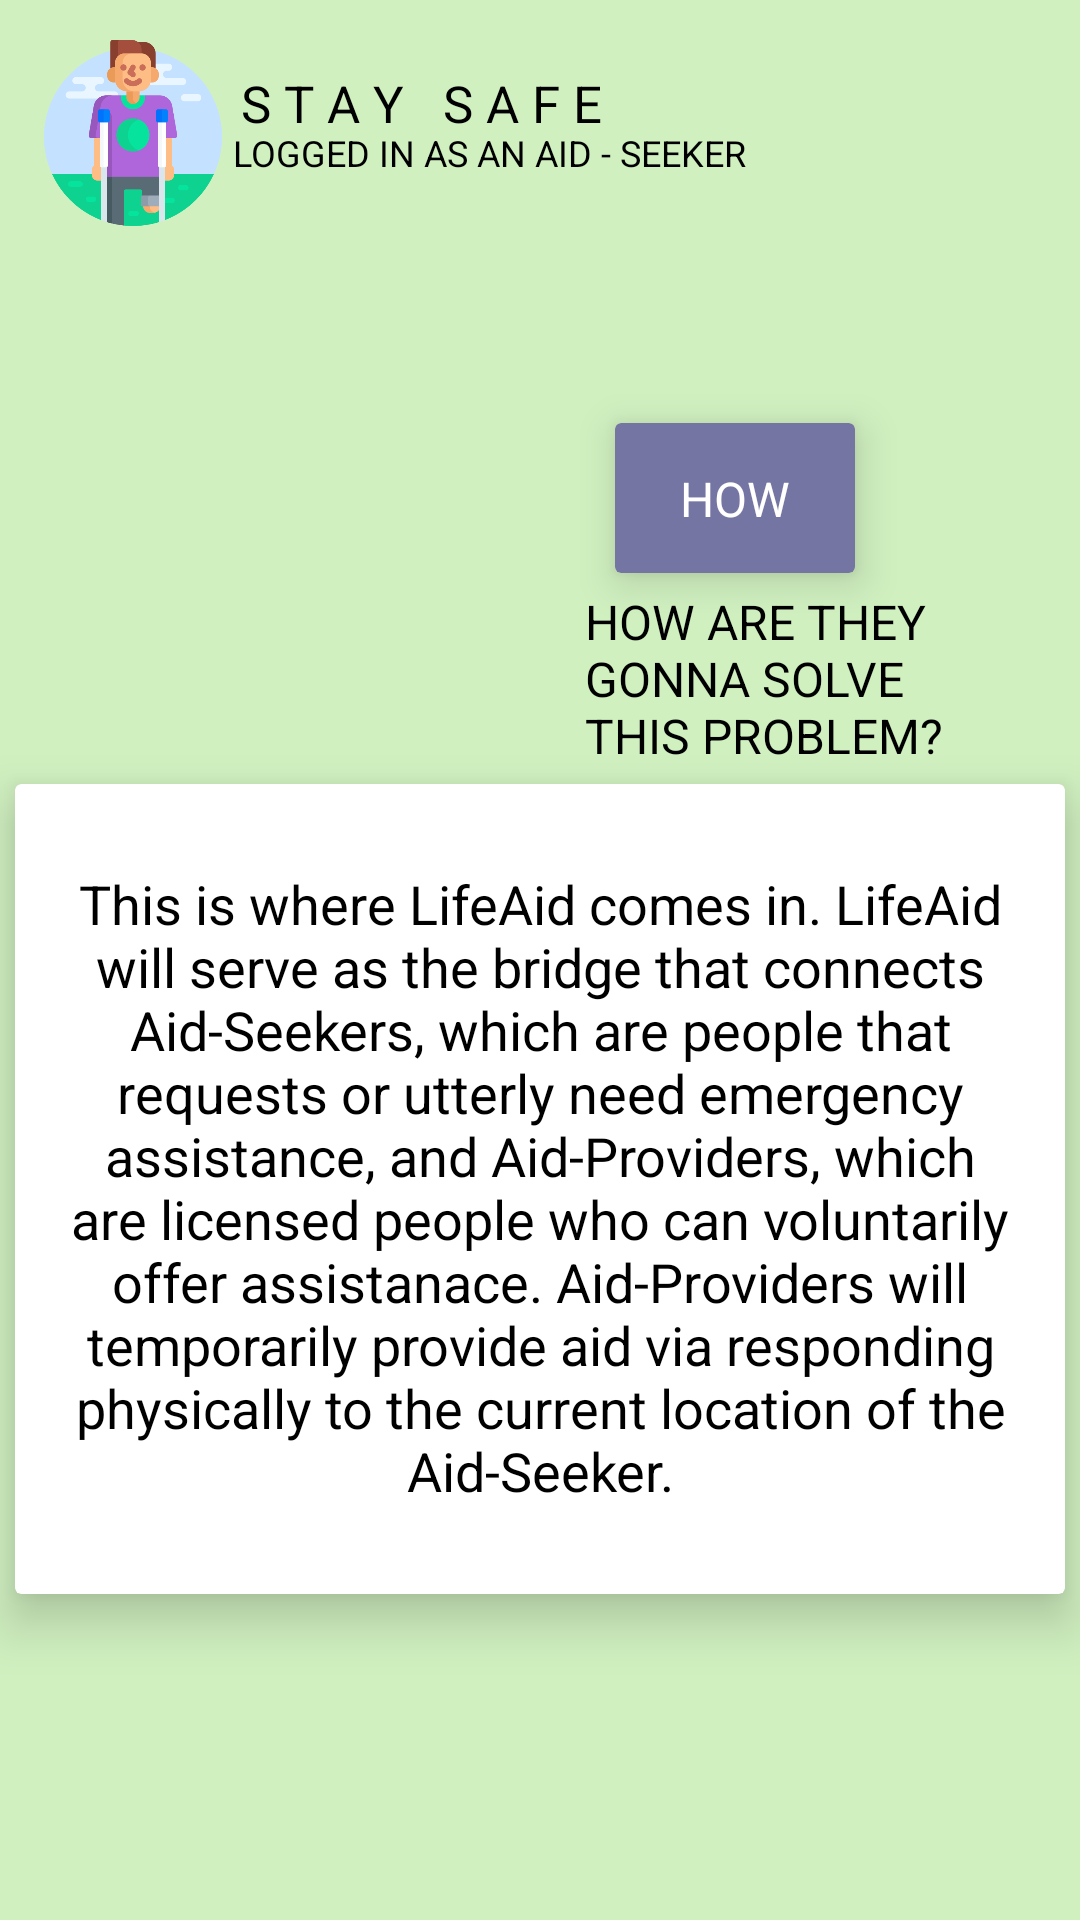

Named icons in this screenshot (1080 × 1920) and their bounding boxes, (x1, y1, x2, y2):
amputee: (44, 40, 222, 226)
